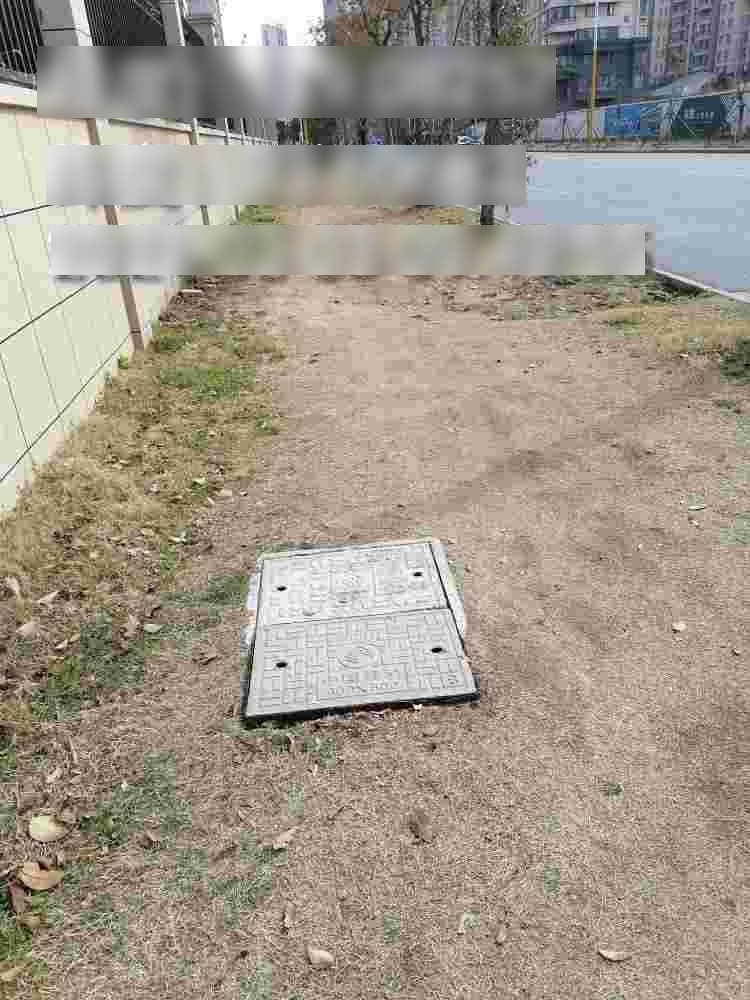good: (236, 537, 482, 721)
